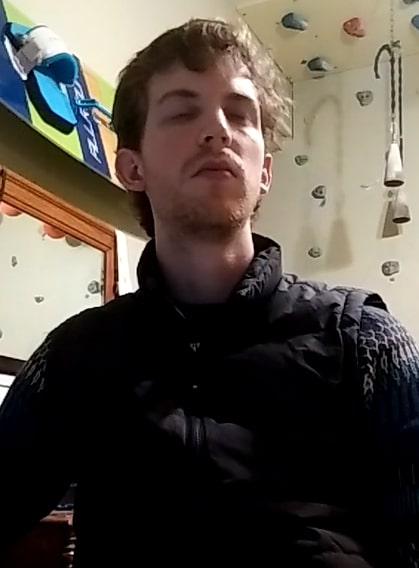Sleeping: (154, 93, 262, 134)
